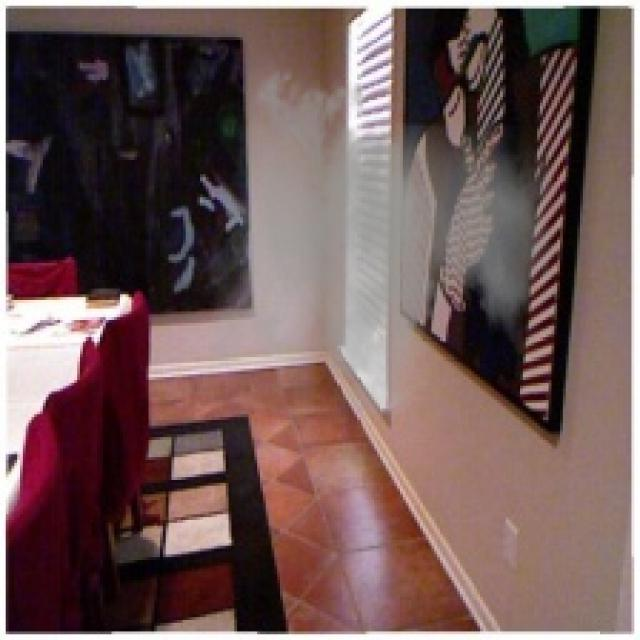smoke: (209, 57, 554, 434)
